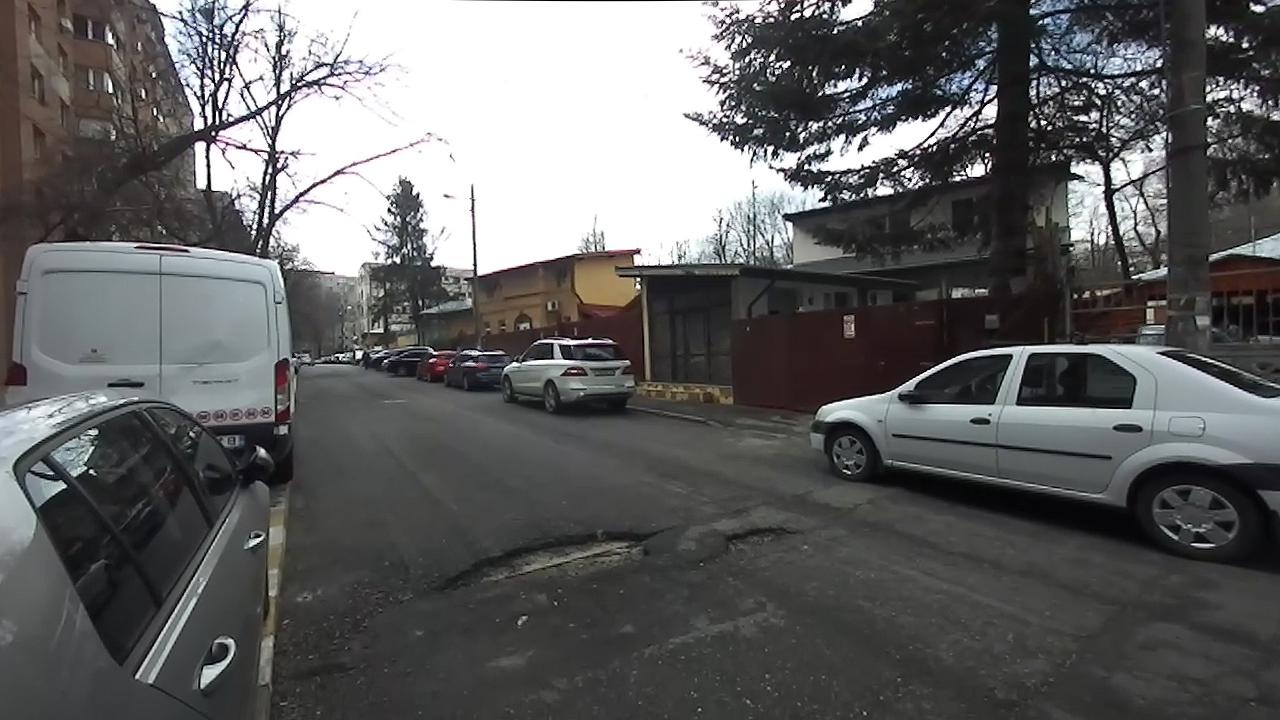pothole: (416, 522, 669, 602), (695, 523, 804, 571)
